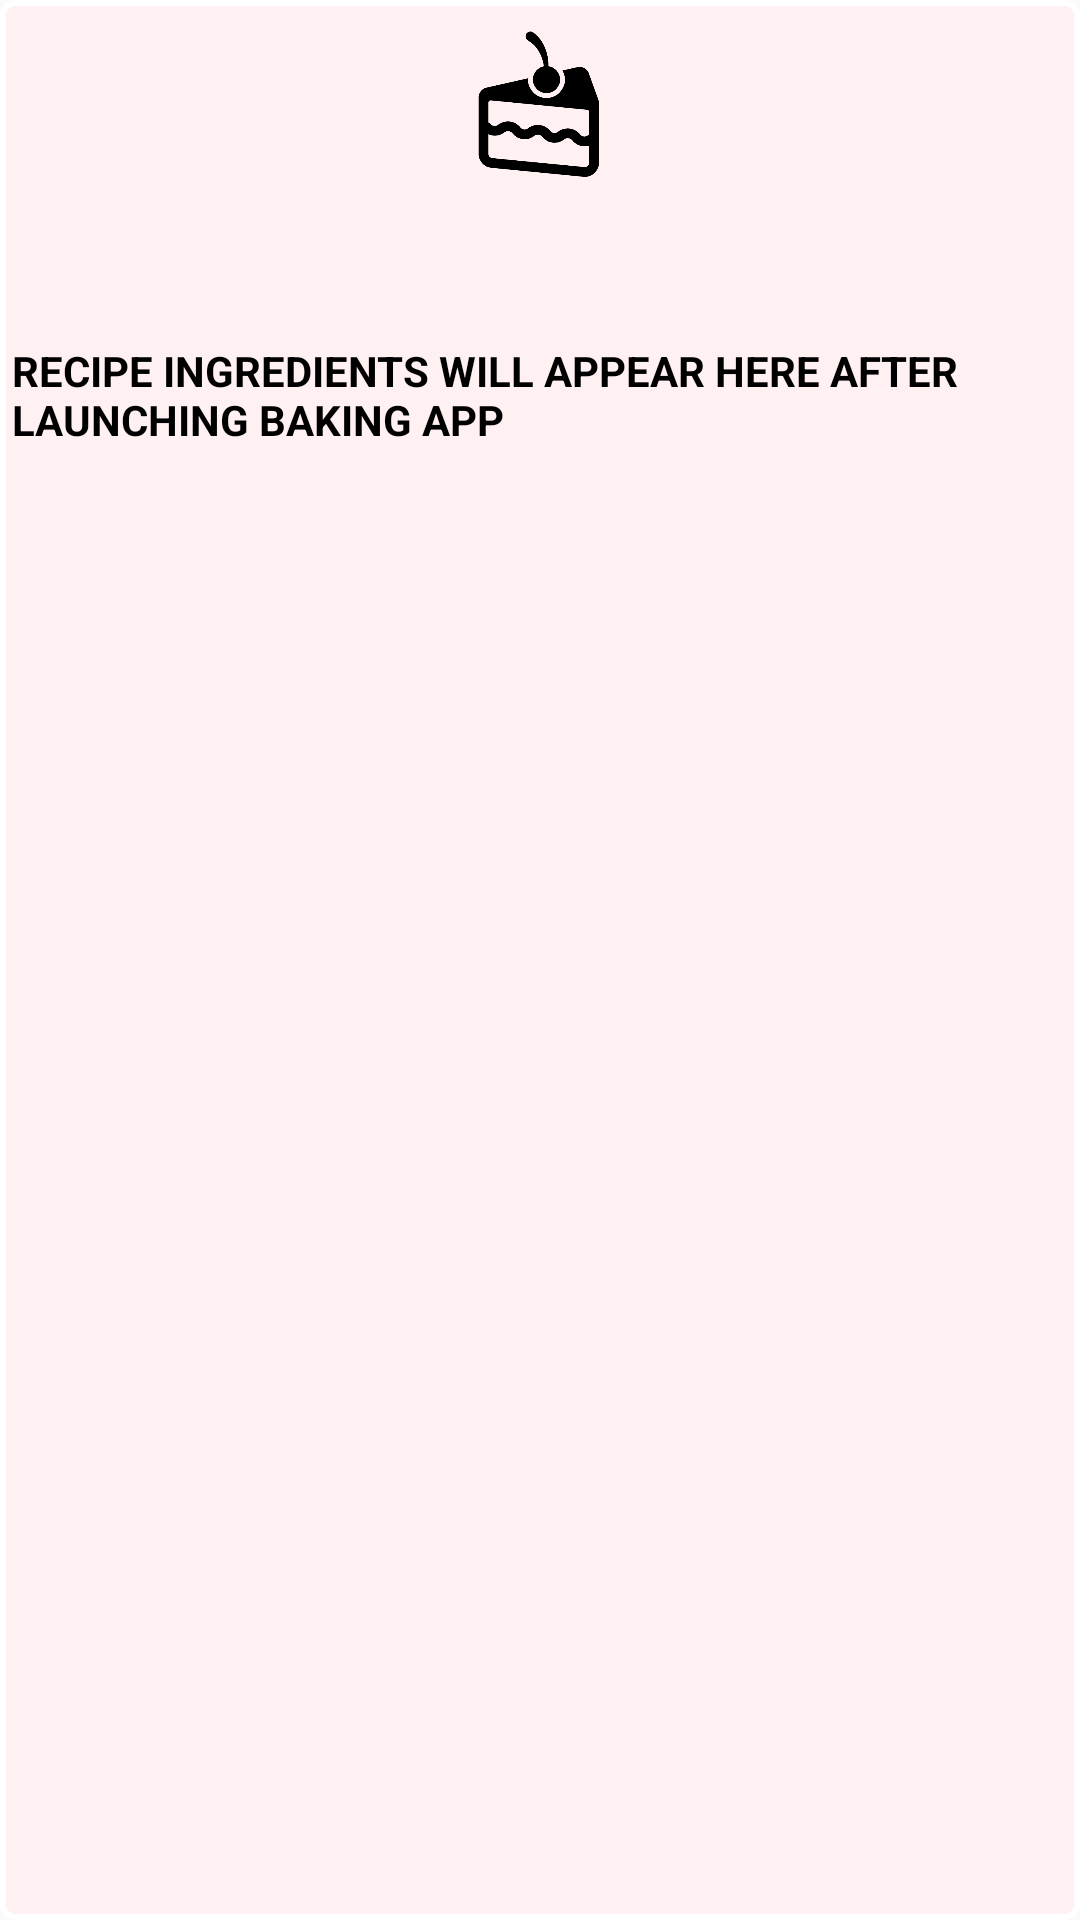

Icon bounding boxes for this 1080*1920 phone screenshot, format detection(x1, y1, x2, y2):
sweets: detection(478, 31, 599, 177)
